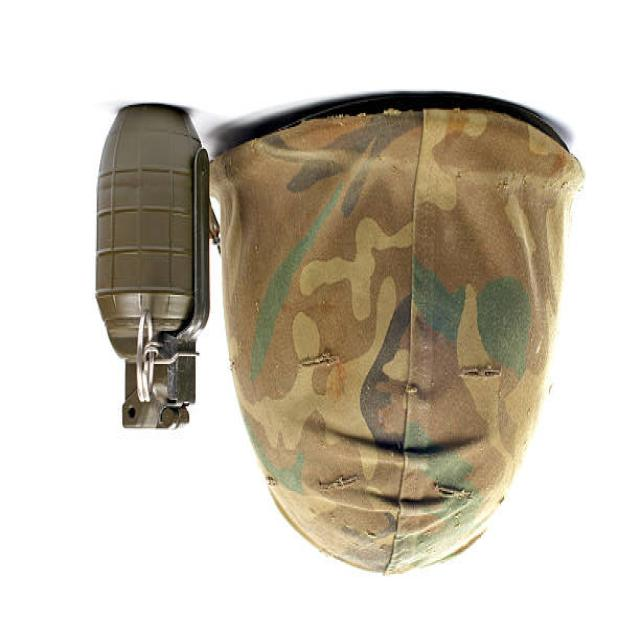grenade: (97, 103, 215, 434)
